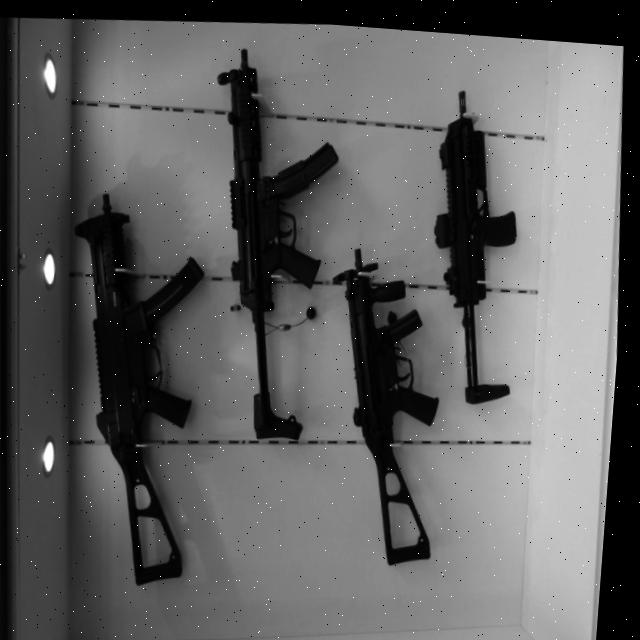firearm: (56, 183, 229, 590), (194, 39, 361, 443), (320, 236, 462, 564), (418, 78, 537, 402)
